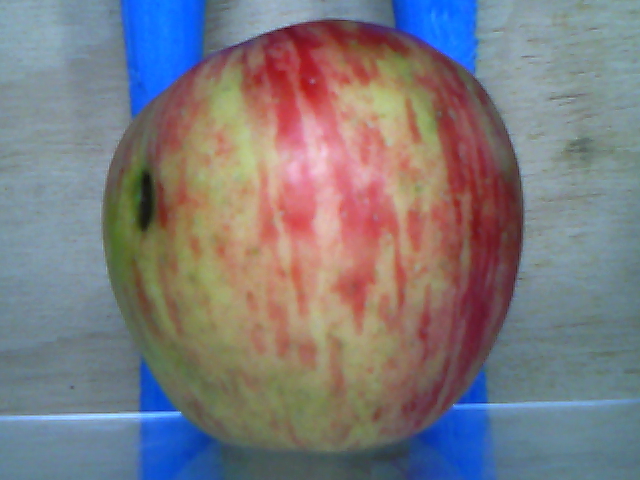puncture: (134, 174, 154, 234)
